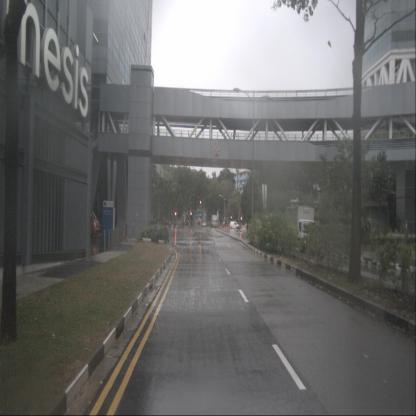barrier: (240, 226, 246, 230), (225, 224, 230, 228), (246, 225, 250, 230)
